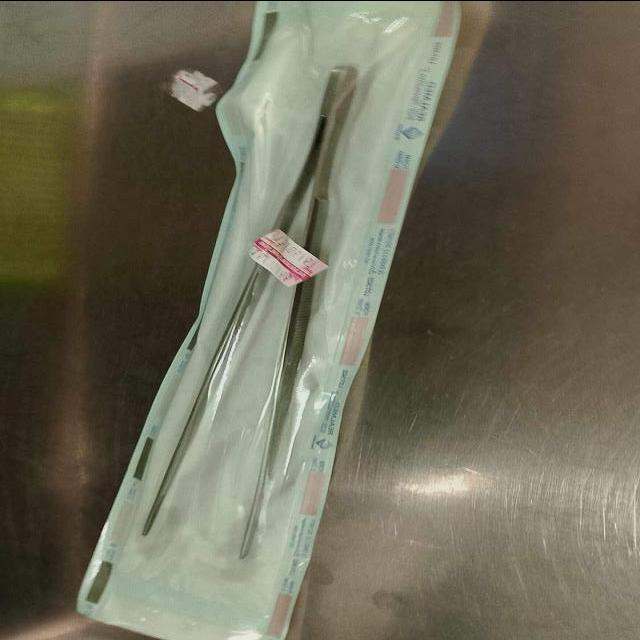General: (74, 1, 463, 638)
Sharps: (236, 63, 358, 559)
